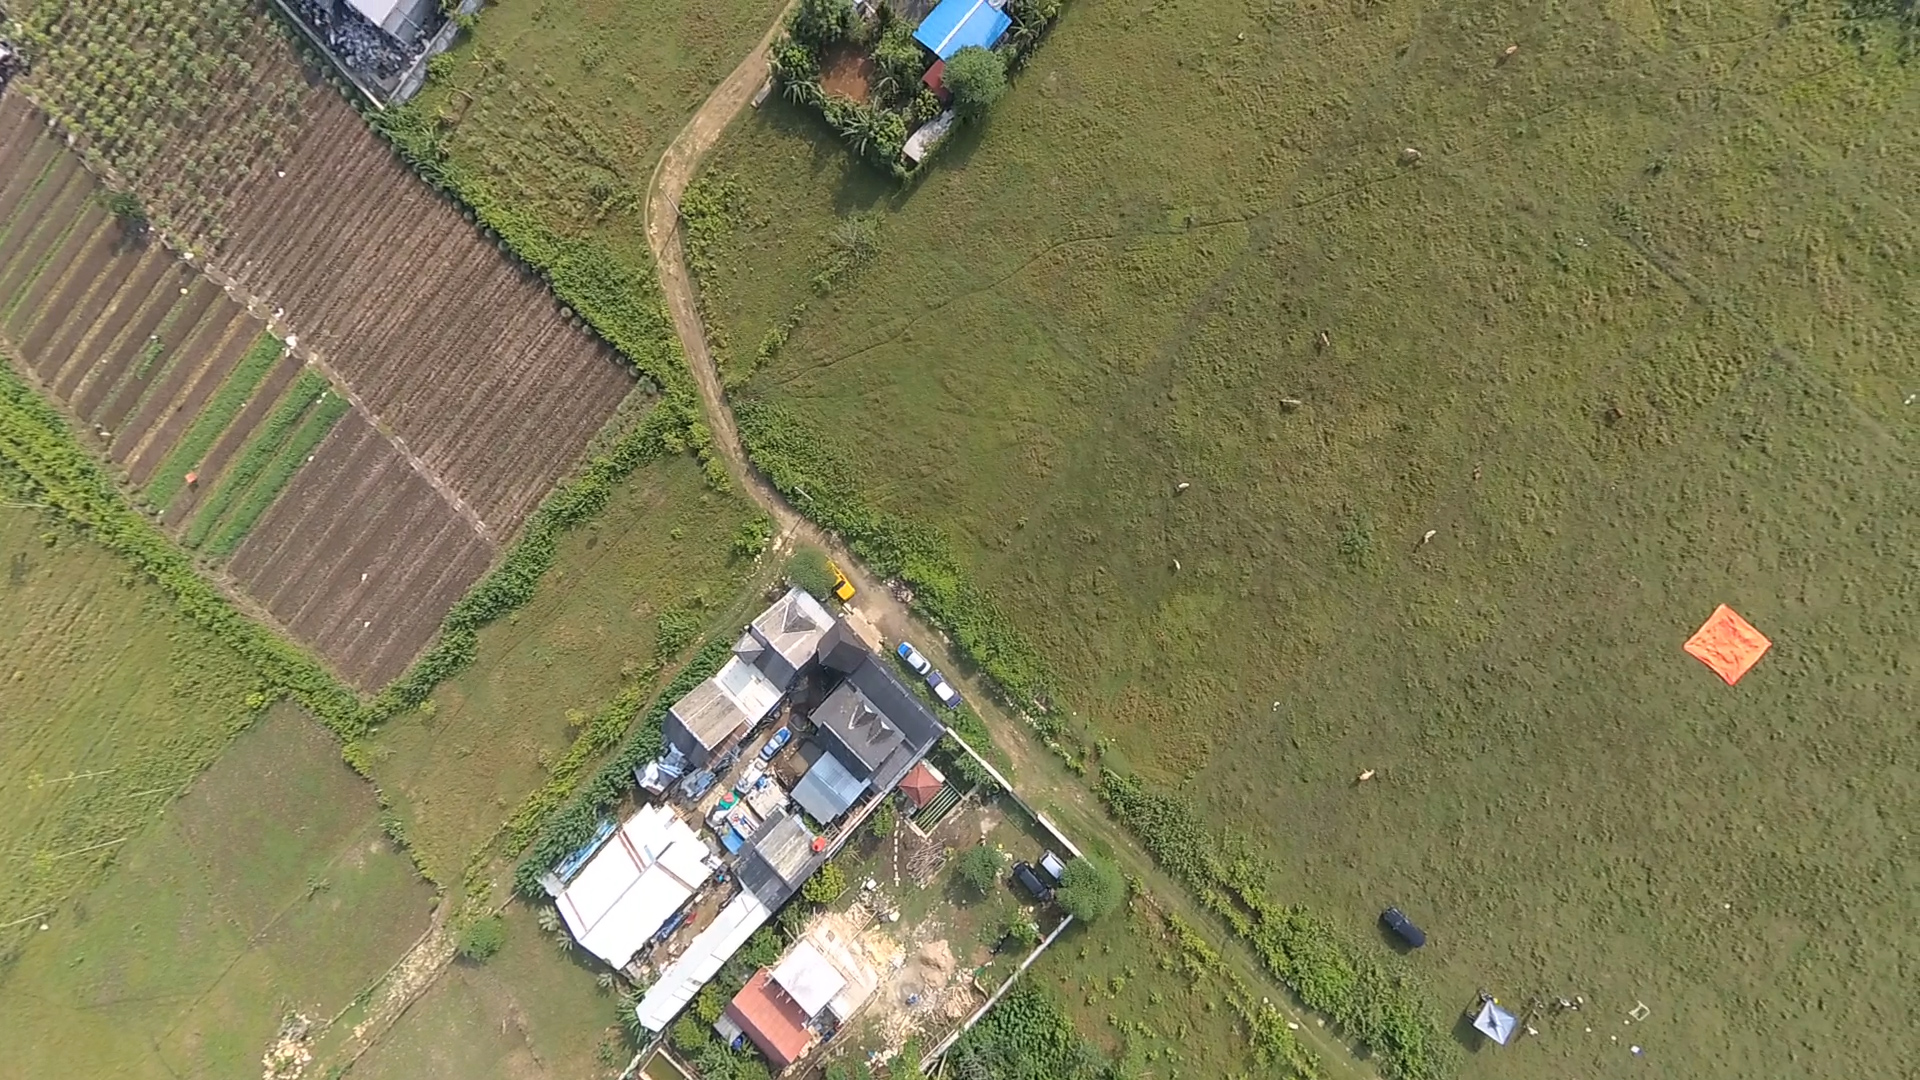Orange Dropzone: (1679, 600, 1776, 688)
